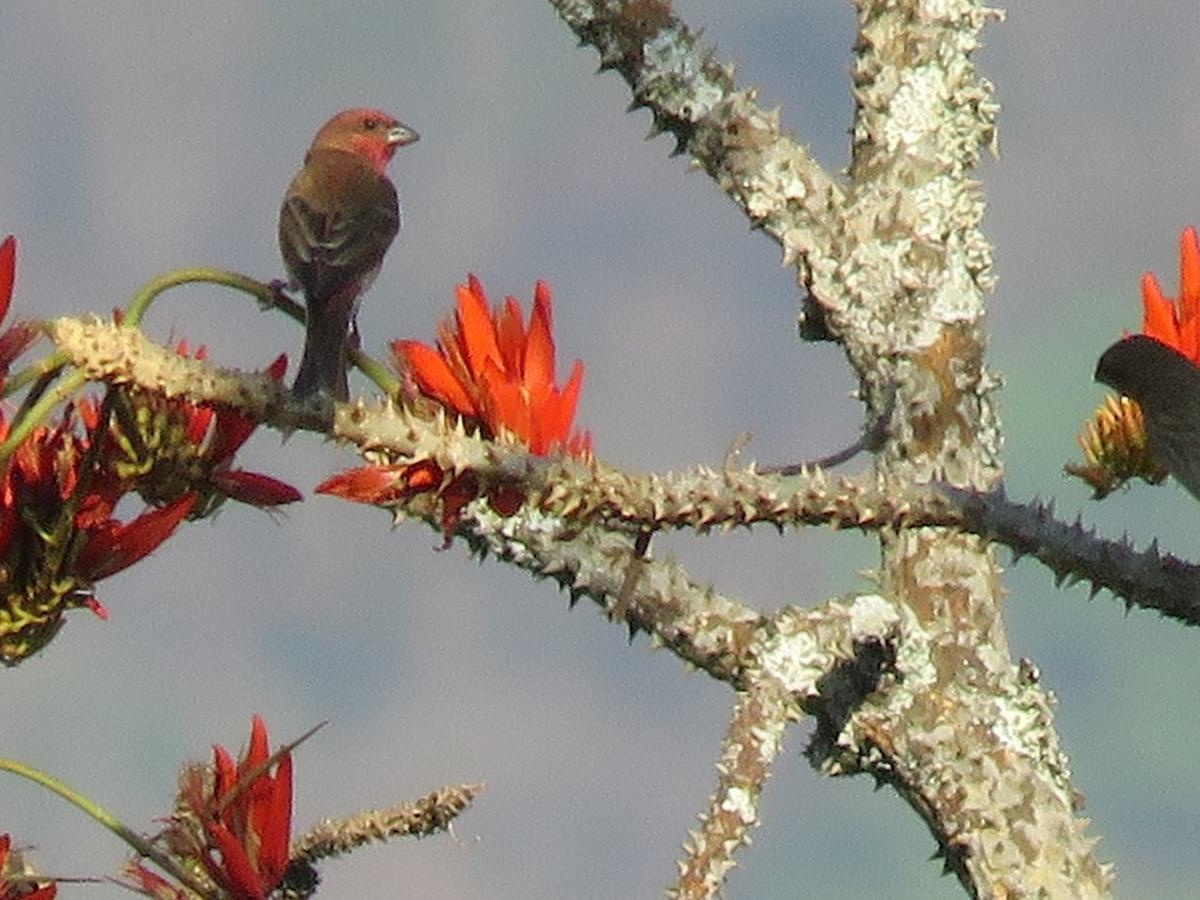rosefinch: (260, 93, 464, 386)
